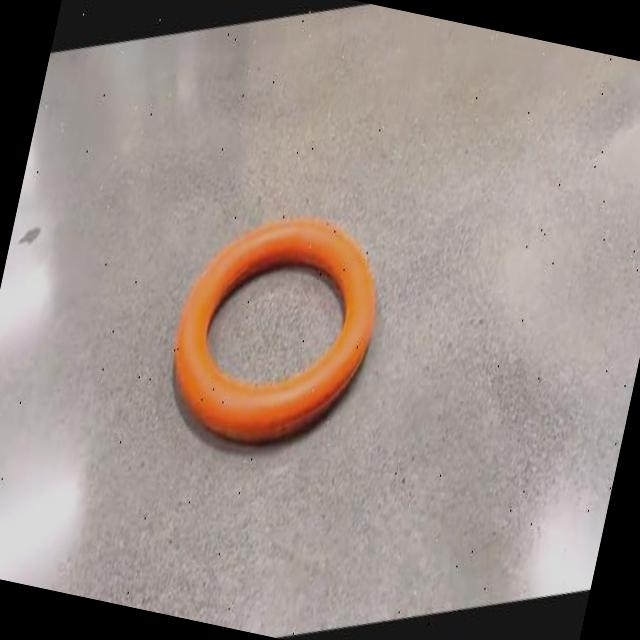note: (174, 217, 375, 440)
